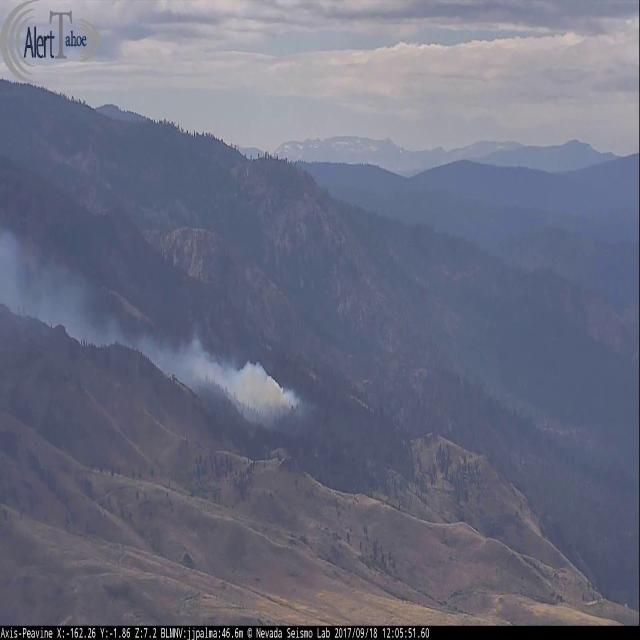smoke: (2, 230, 320, 451)
